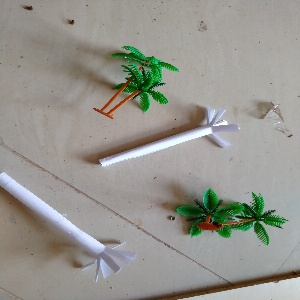plant: (176, 183, 283, 253), (90, 40, 168, 122)
weed: (1, 169, 133, 283), (91, 110, 246, 170)
